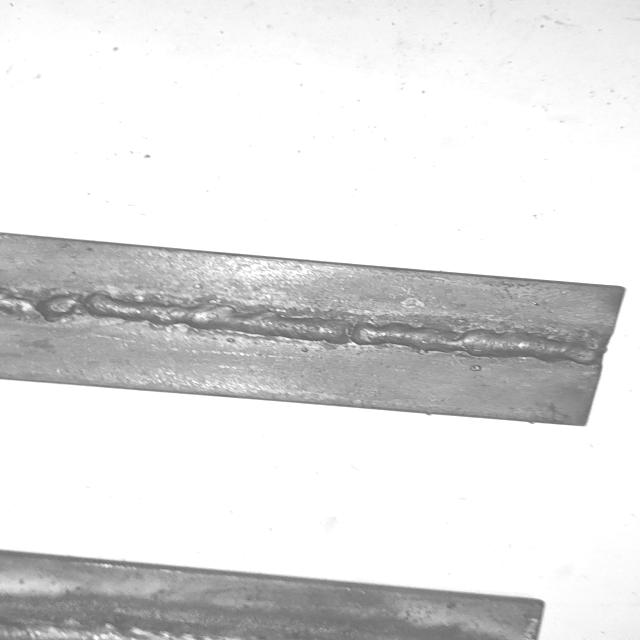Bad Weld: (0, 288, 603, 371)
Defect: (0, 283, 122, 324)
